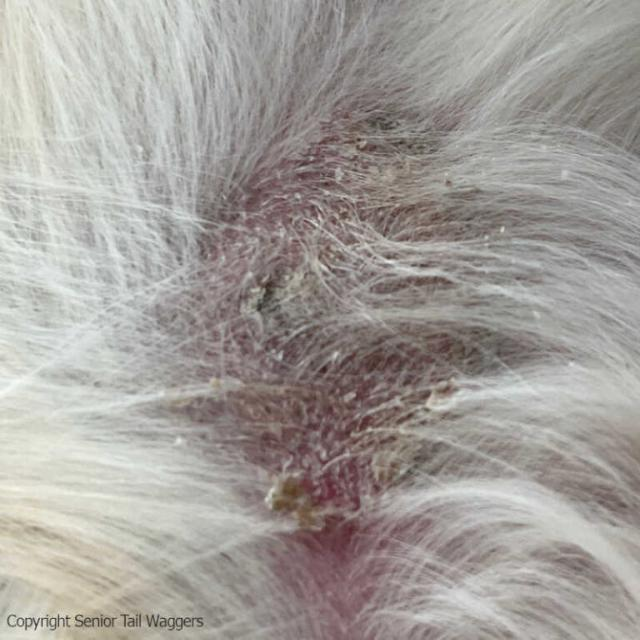fungal infection: (205, 84, 475, 545)
